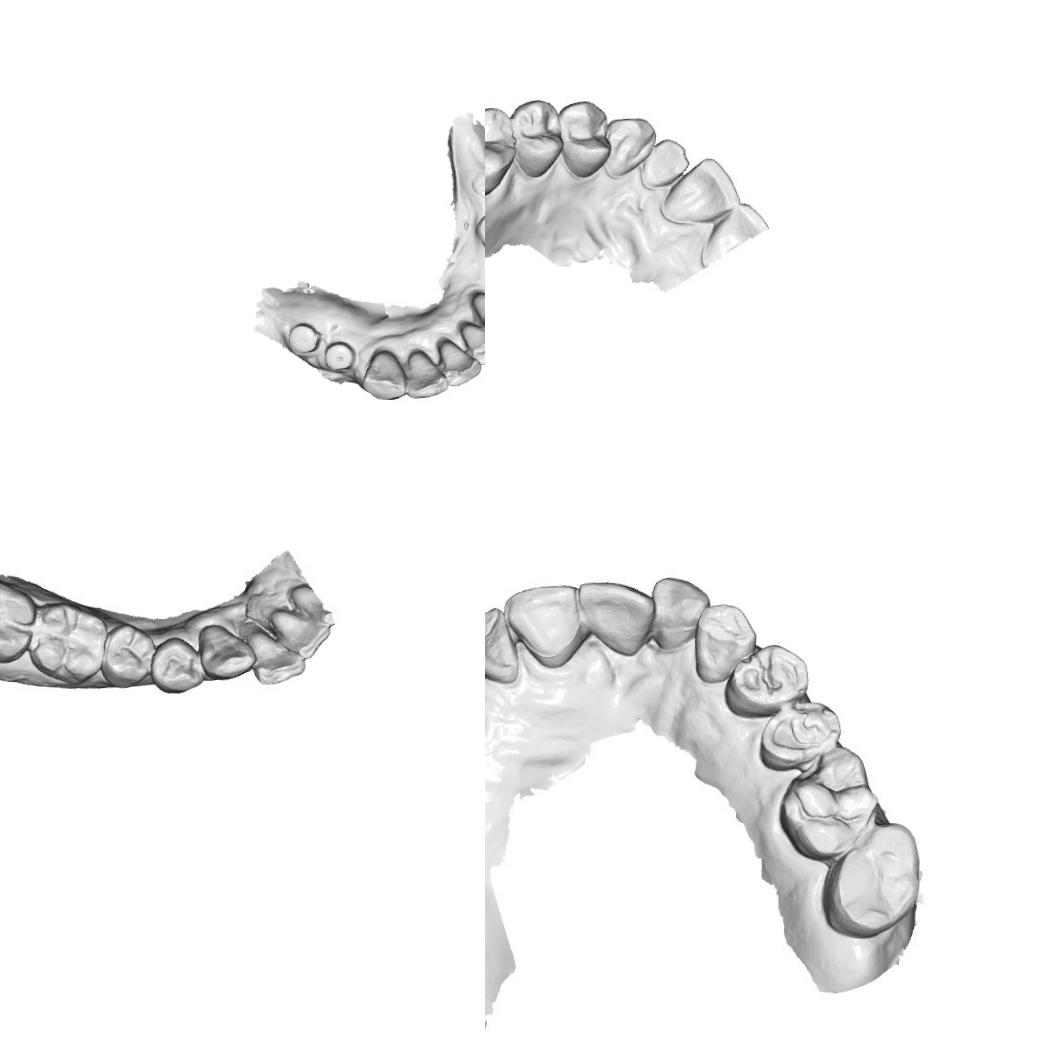canine: (693, 604, 758, 679), (195, 622, 259, 683), (607, 116, 653, 181), (359, 347, 409, 403)
implant: (285, 320, 322, 356), (322, 339, 356, 374)
incisor: (506, 581, 586, 664), (574, 580, 656, 656), (664, 156, 734, 223), (651, 576, 708, 651), (244, 622, 307, 688), (266, 608, 332, 662), (485, 605, 525, 685), (642, 140, 688, 198), (404, 348, 450, 400), (436, 340, 484, 389), (456, 320, 485, 367), (467, 289, 485, 335)
molar: (824, 822, 922, 940), (781, 749, 882, 855), (26, 598, 108, 689), (485, 100, 518, 204), (0, 577, 36, 664)
premolar: (723, 640, 811, 719), (750, 699, 842, 772), (505, 94, 567, 182), (559, 99, 609, 178), (146, 634, 208, 697), (100, 624, 156, 692), (473, 206, 485, 256)
